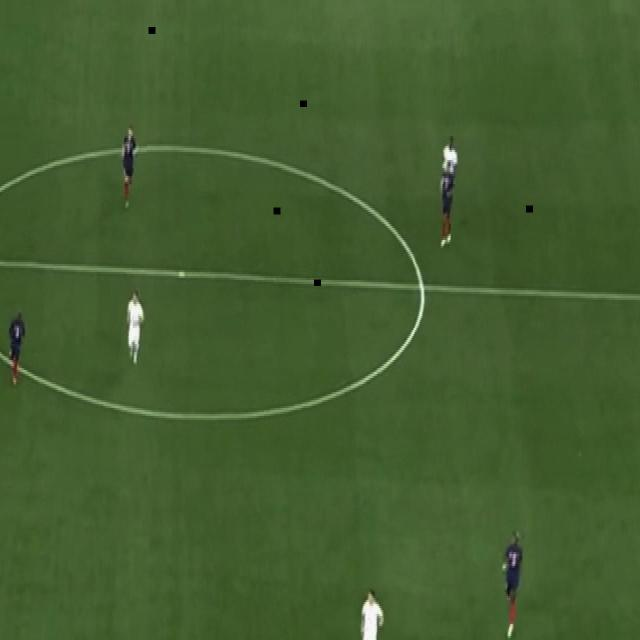player-white: (502, 530, 525, 640), (125, 286, 146, 364), (121, 124, 139, 210), (440, 159, 456, 251), (8, 311, 26, 387), (360, 586, 385, 640), (439, 135, 458, 204)
